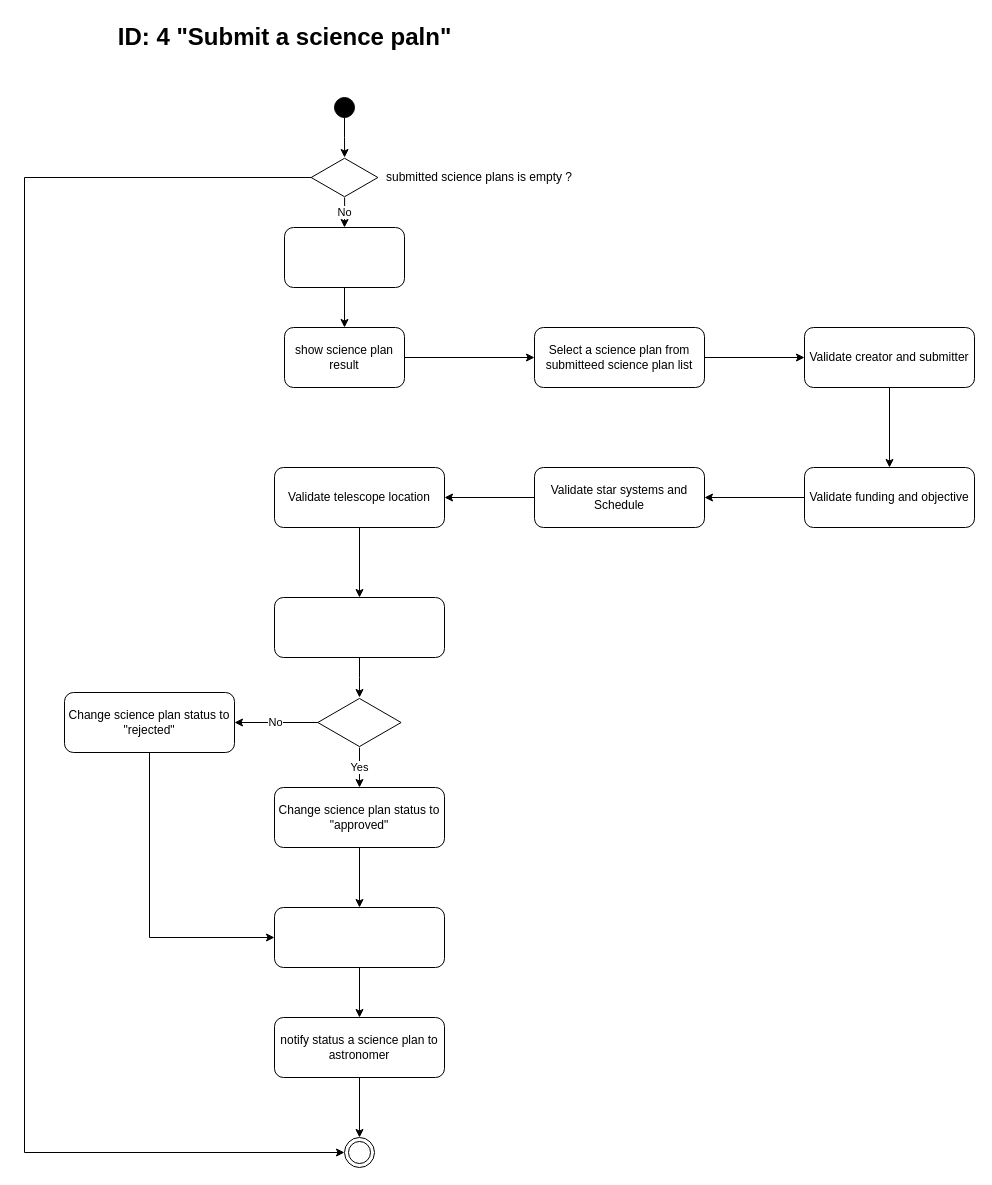
Some shapes in this 992 by 1185 pixel diagram are drawn without their labels. Each missing label, with the centre of its shape:
"pass the validation" goes at point (359, 722).
"save a science plan" goes at point (359, 937).
"Search for submitted science plan" goes at point (344, 257).
"Validate data processing requirement" goes at point (359, 627).
